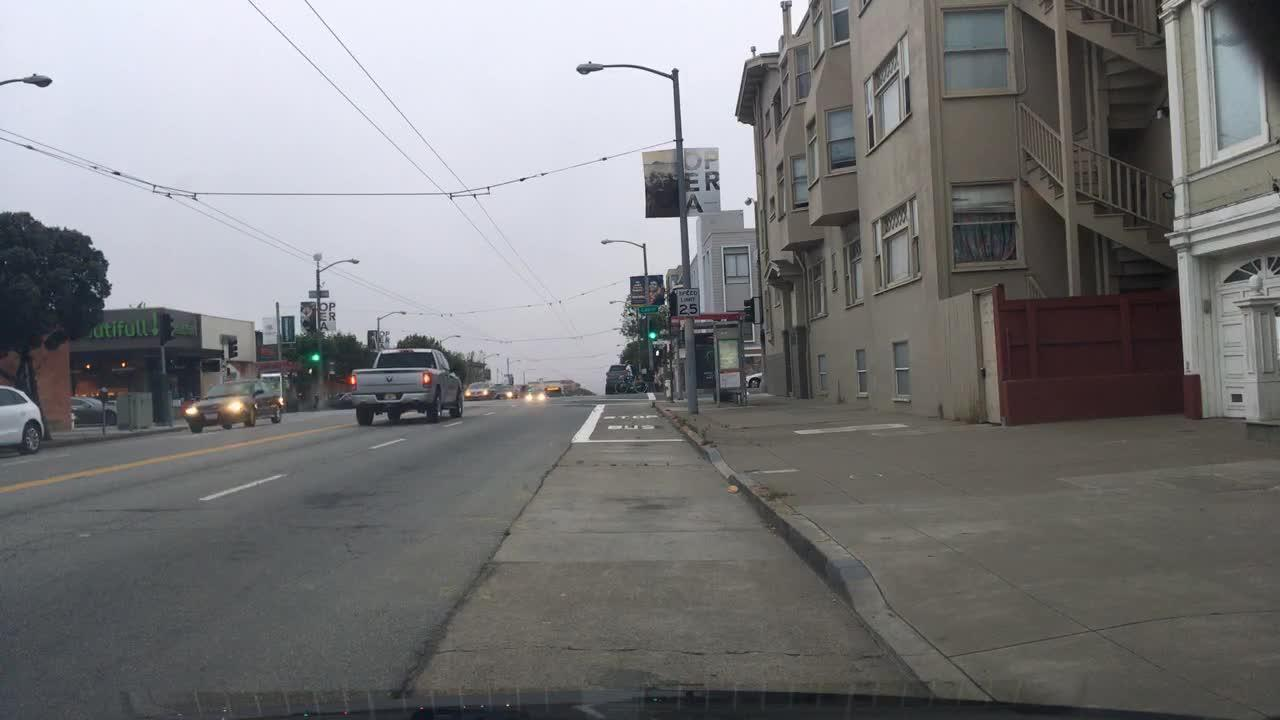ram: (383, 374, 397, 388)
